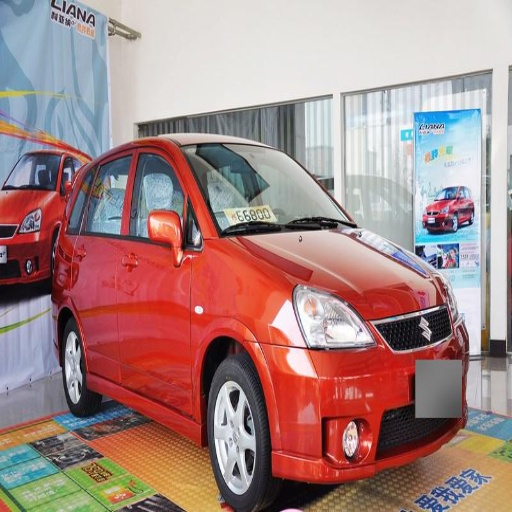front_bumper: (261, 306, 468, 482)
front_right_door: (117, 148, 198, 415)
front_right_light: (290, 281, 375, 349)
